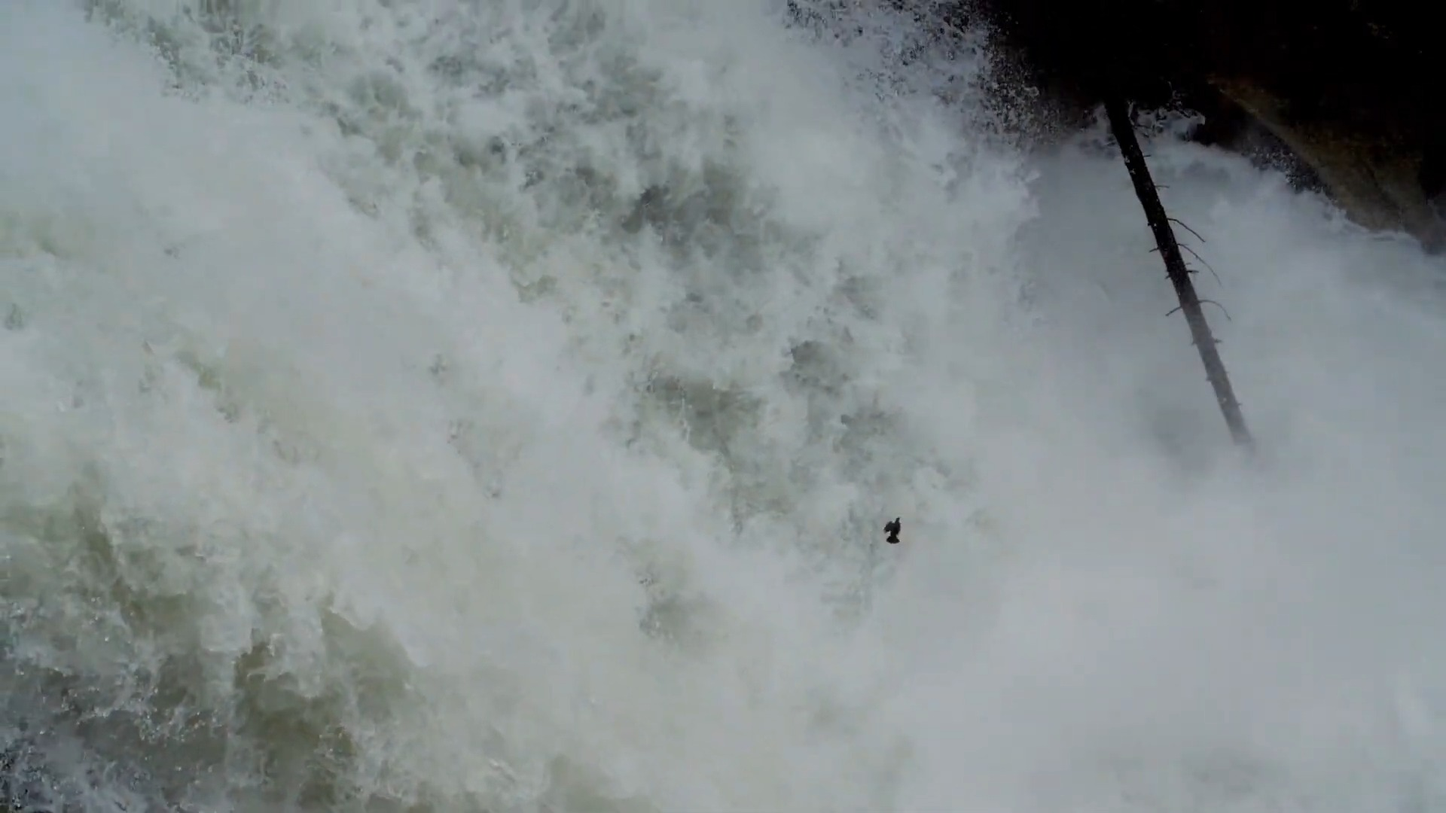not_drone: (874, 510, 912, 561)
